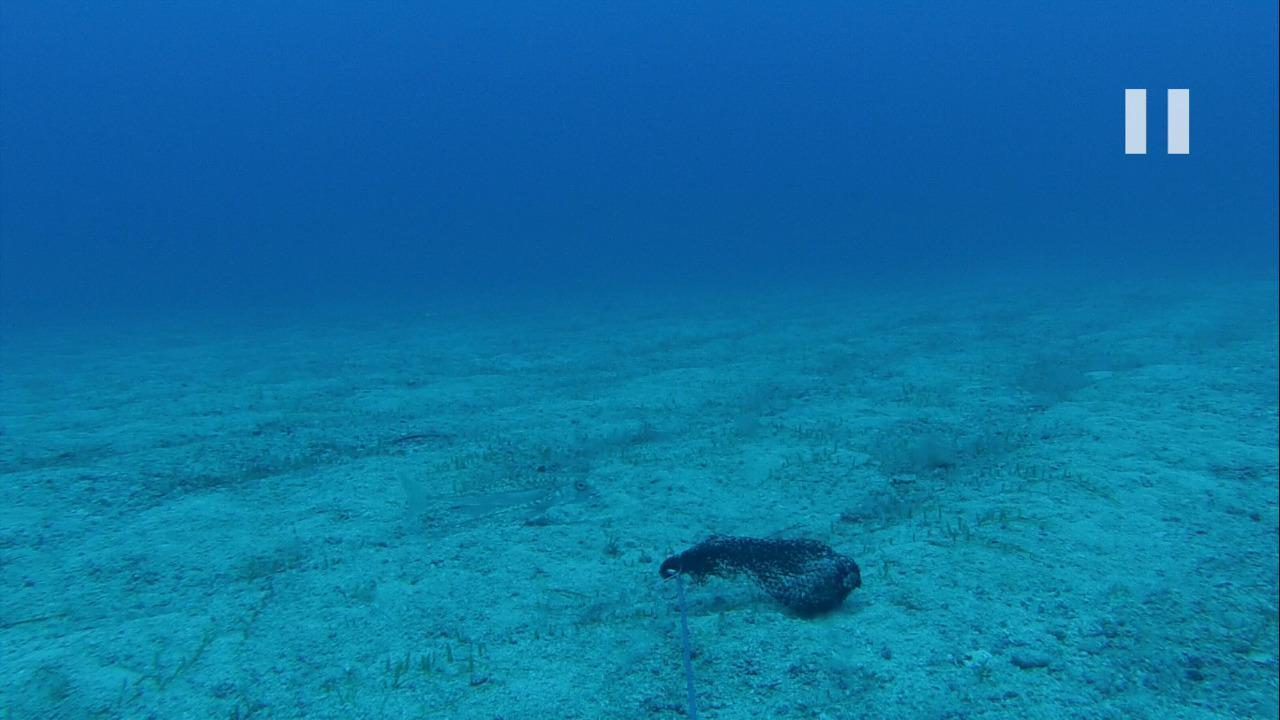dactylopterus: (387, 470, 620, 548)
